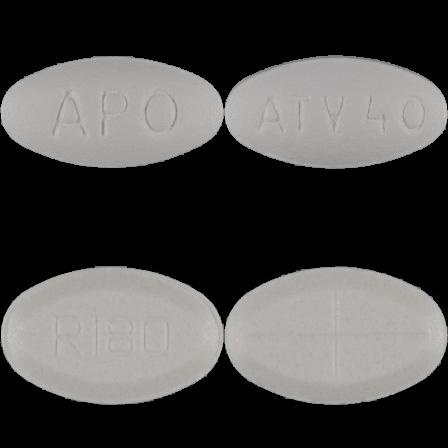43063-453: (0, 0, 224, 224)
